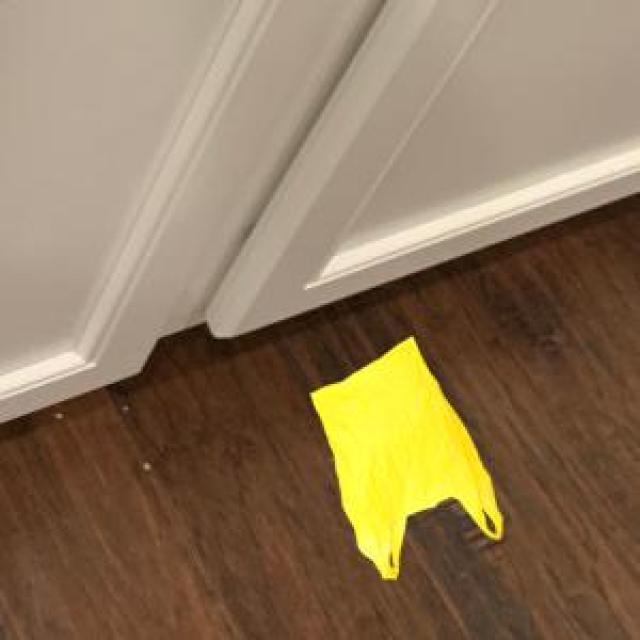plastic: (278, 312, 544, 600)
